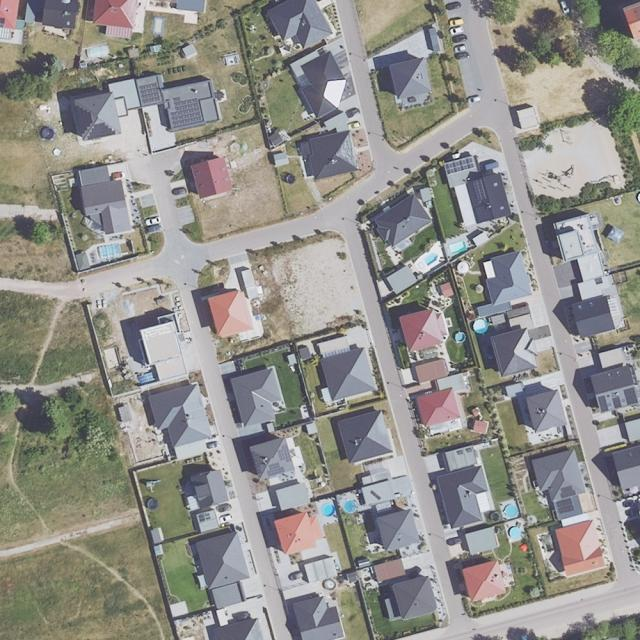PV: (172, 96, 202, 127), (75, 106, 94, 138), (86, 122, 117, 141), (444, 157, 475, 175), (139, 82, 161, 105), (472, 180, 487, 202), (250, 450, 264, 473), (555, 498, 576, 513), (277, 444, 292, 462), (624, 388, 638, 405), (267, 463, 285, 476), (560, 483, 575, 498), (295, 73, 311, 87), (598, 396, 609, 412), (612, 396, 623, 409)
ST: (198, 512, 212, 523)
